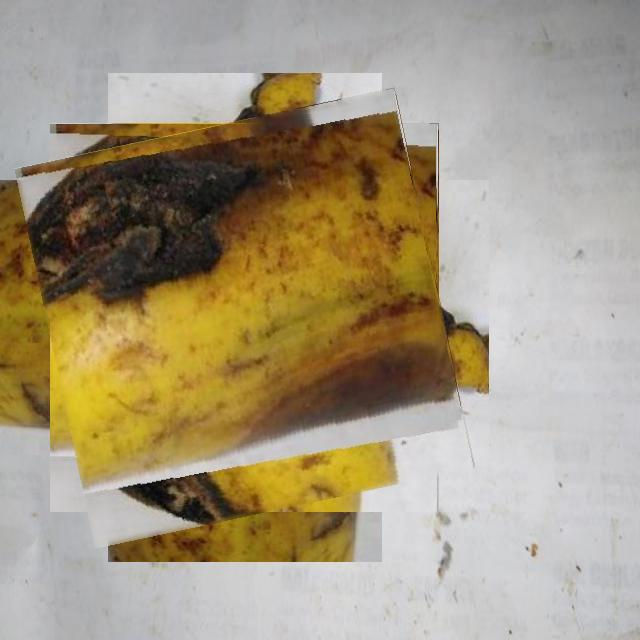Podre: (32, 105, 457, 530)
